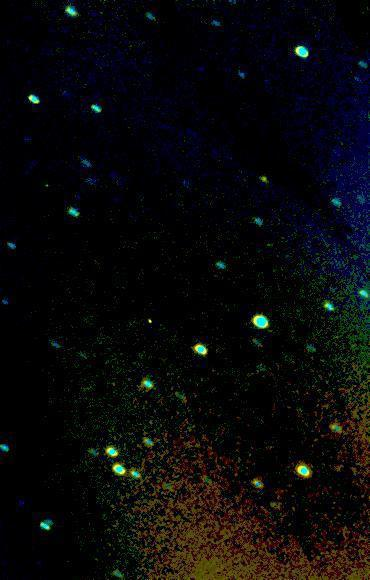star: (253, 166, 283, 196)
